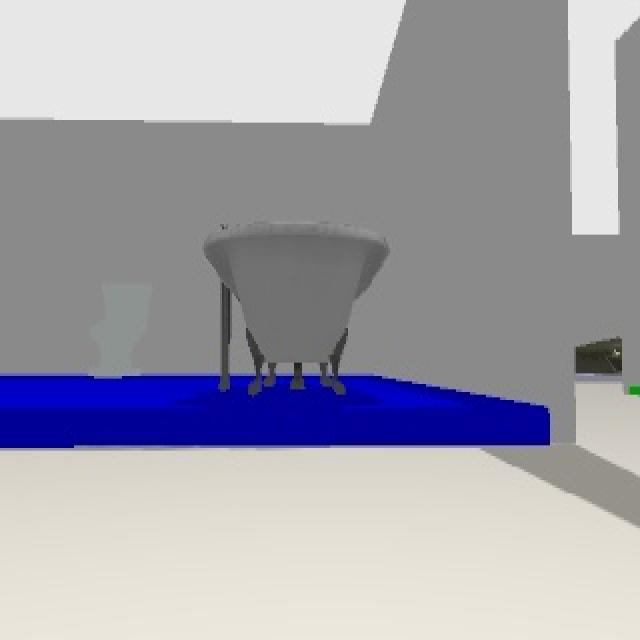bathtub: (202, 206, 396, 402)
